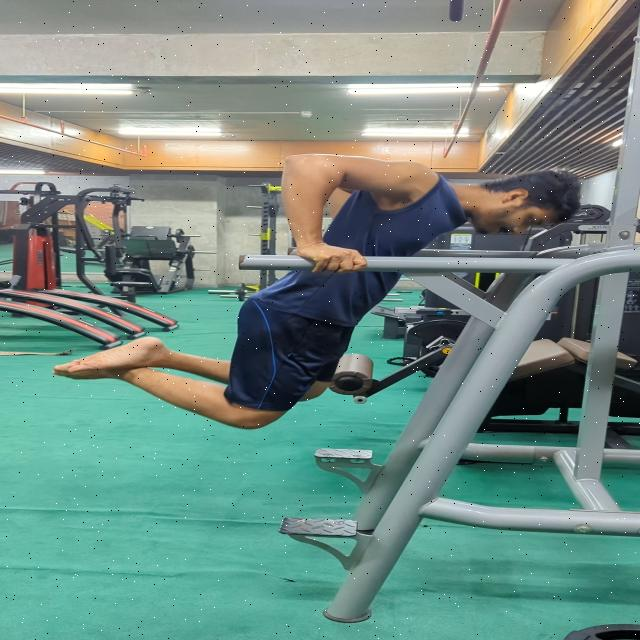Normal_Dips: (47, 143, 598, 432)
